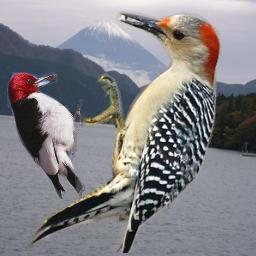Woodpecker: (22, 2, 247, 253), (7, 72, 85, 199)
